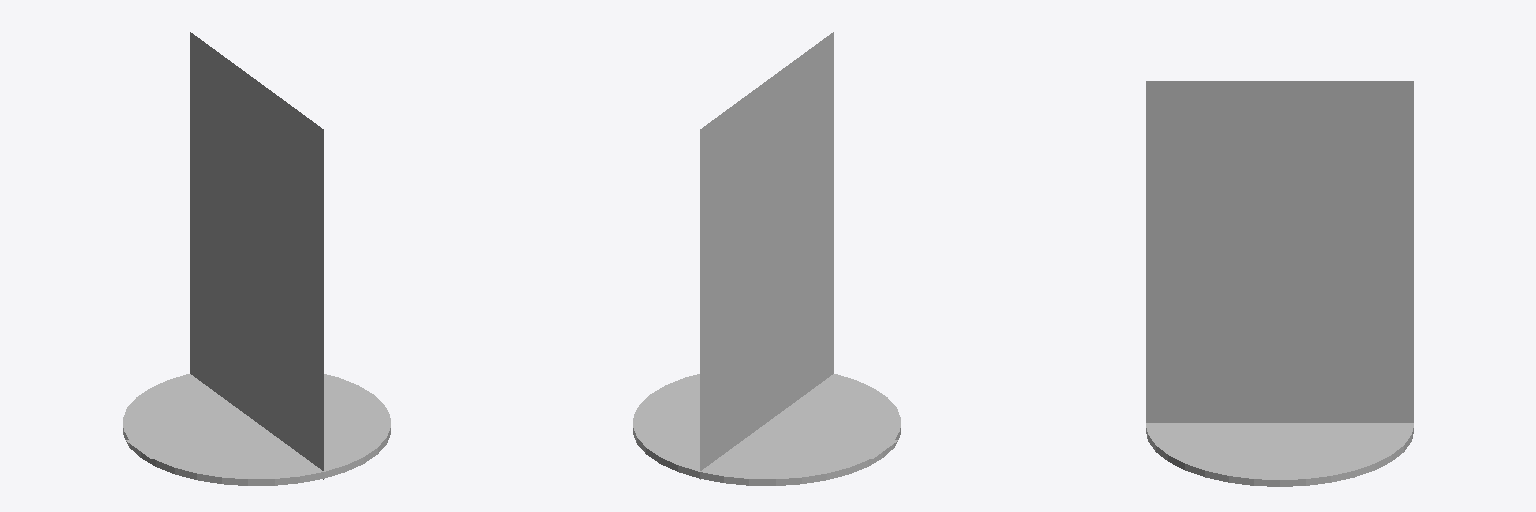
The model's file is tt_fig_2.obj.
The picture shows the model from 3 angles: view 1: azimuth 30°, elevation 25°; view 2: azimuth 150°, elevation 25°; view 3: azimuth 270°, elevation 25°; orthographic projection.
Visible parts, largest first — view 1: 2figure_back_Plane_Plane.000, 1base_Plane_Plane.002, status_Plane; view 2: 2figure_back_Plane_Plane.000, 1base_Plane_Plane.002, status_Plane, 2figure_front_Plane_Plane.001; view 3: 2figure_front_Plane_Plane.001, 1base_Plane_Plane.002.
Part boxes in pixels (x1,y1,x2,y2): 2figure_back_Plane_Plane.000: (190,34,323,479); 1base_Plane_Plane.002: (123,374,390,485); status_Plane: (126,429,196,458); 2figure_back_Plane_Plane.000: (700,34,833,479); 1base_Plane_Plane.002: (633,374,900,485); status_Plane: (827,429,897,458); 2figure_front_Plane_Plane.001: (700,32,833,470); 2figure_front_Plane_Plane.001: (1146,81,1413,422); 1base_Plane_Plane.002: (1146,423,1413,486).
Bounding box in the file's own units: 0.9337 × 1.33 × 0.9259.